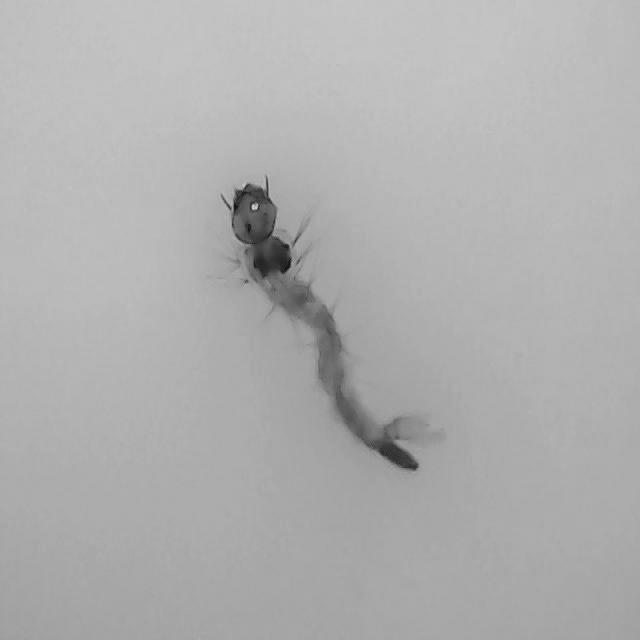larvas: (237, 186, 423, 472)
